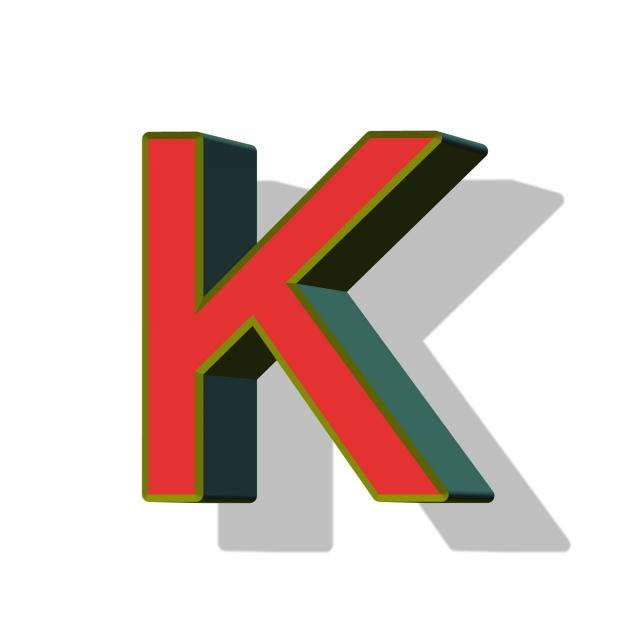K: (88, 69, 560, 575)
